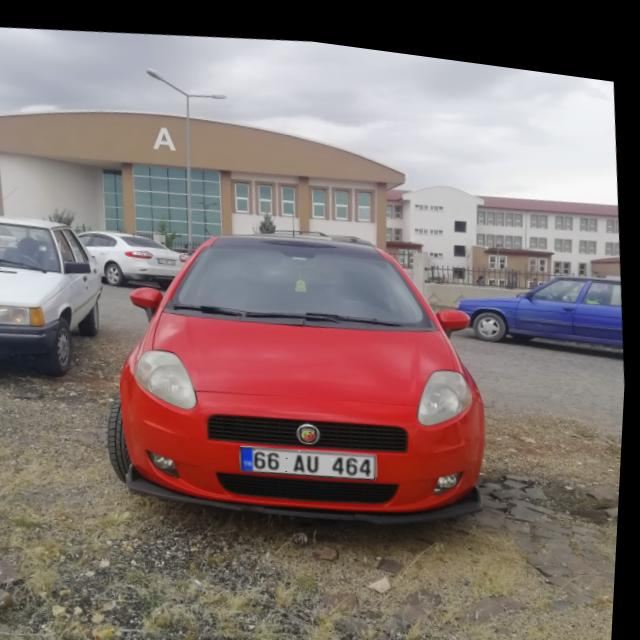license_plate: (242, 427, 383, 477)
